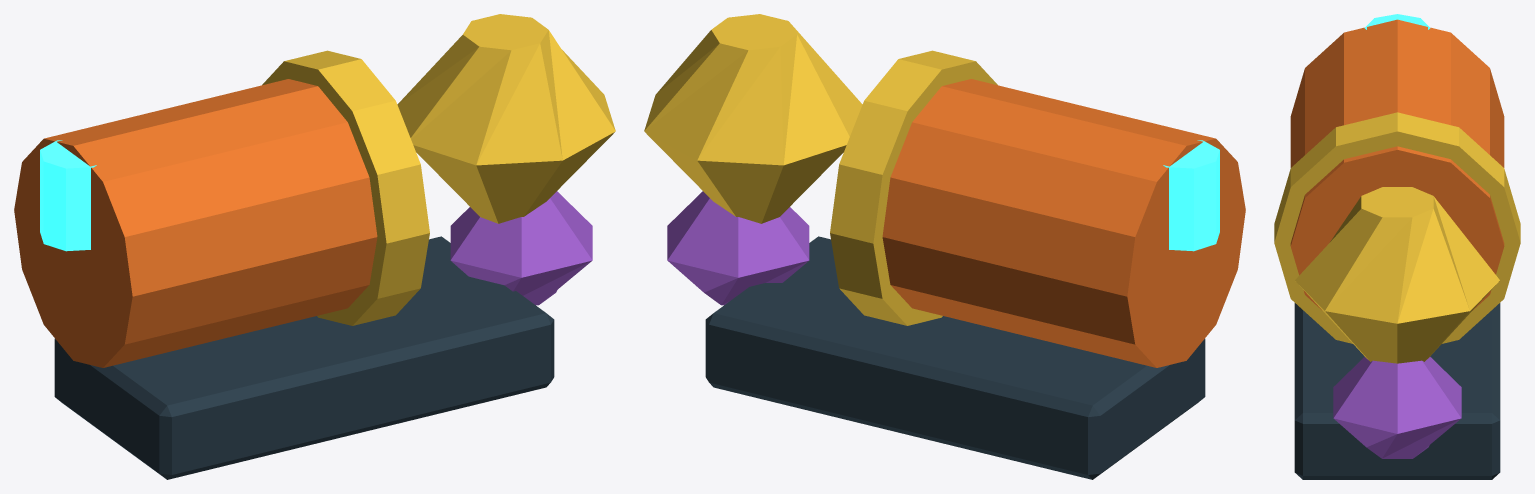
The model's file is kanban_machine.glb.
3 views of the same model, side by side, from view 1: azimuth 30°, elevation 25°; view 2: azimuth 150°, elevation 25°; view 3: azimuth 270°, elevation 25° (orthographic). The views are drawn at different scales.
Parts seen in each view (by area): view 1: kanban_machine; view 2: kanban_machine; view 3: kanban_machine.
Part boxes in pixels (x1,y1,x2,y2): kanban_machine: (14, 14, 615, 479); kanban_machine: (644, 14, 1245, 479); kanban_machine: (1274, 14, 1520, 479).
Bounding box in the file's own units: 2.84 × 1.56 × 1.2.
